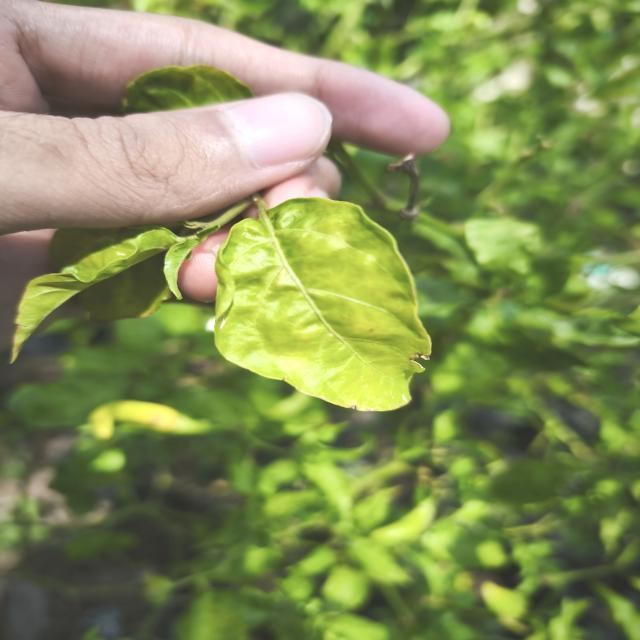Virus Kuning: (212, 196, 432, 412)
